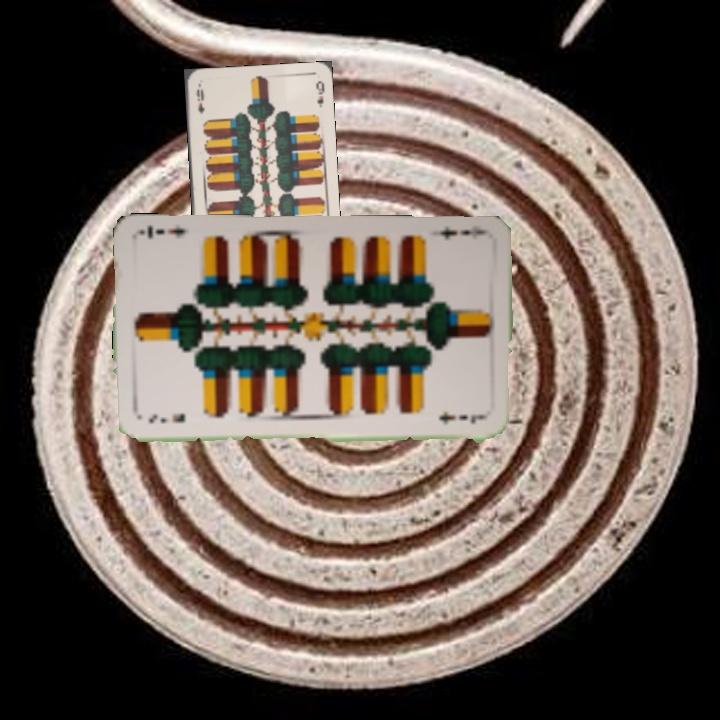E7: (435, 222, 474, 242), (145, 409, 187, 426)
E9: (192, 85, 207, 116)
